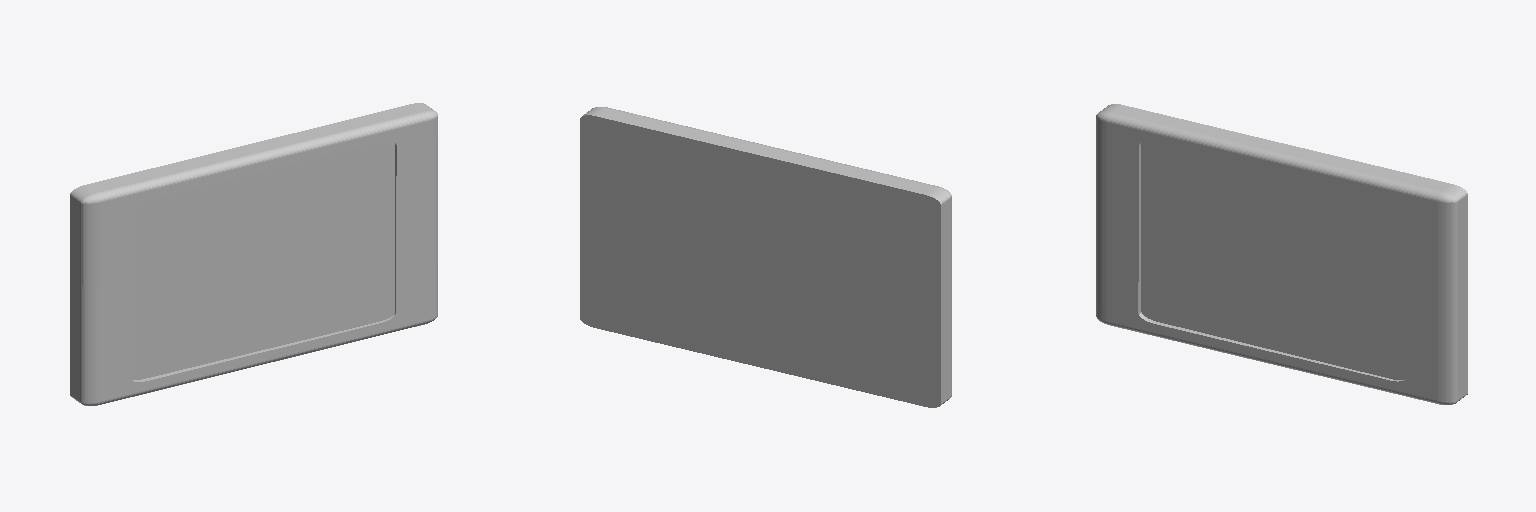
Rendered from wizard of oz.obj.
3 views of the same model, side by side, from view 1: azimuth 30°, elevation 25°; view 2: azimuth 150°, elevation 25°; view 3: azimuth 330°, elevation 25° (orthographic).
Parts seen in each view (by area): view 1: Object.2, Object.1; view 2: Object.1; view 3: Object.2, Object.1.
Boxes of the visible parts, x1=… form: Object.2: x1=131, y1=141, x2=394, y2=379; Object.1: x1=70, y1=103, x2=437, y2=405; Object.1: x1=580, y1=107, x2=951, y2=407; Object.2: x1=1141, y1=142, x2=1405, y2=379; Object.1: x1=1096, y1=104, x2=1467, y2=404.
Size of the model in its own units: 187 by 106 by 15.28.